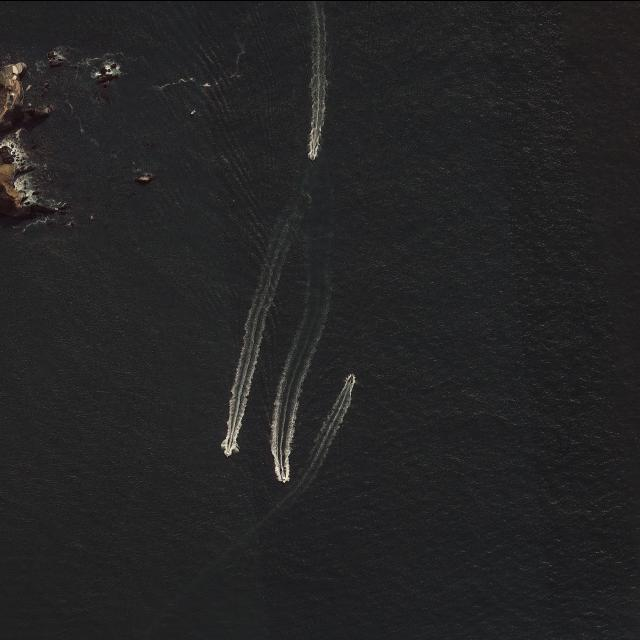ship: (280, 472, 286, 482), (190, 108, 196, 114), (226, 449, 230, 457), (310, 154, 314, 160), (350, 372, 354, 378)
